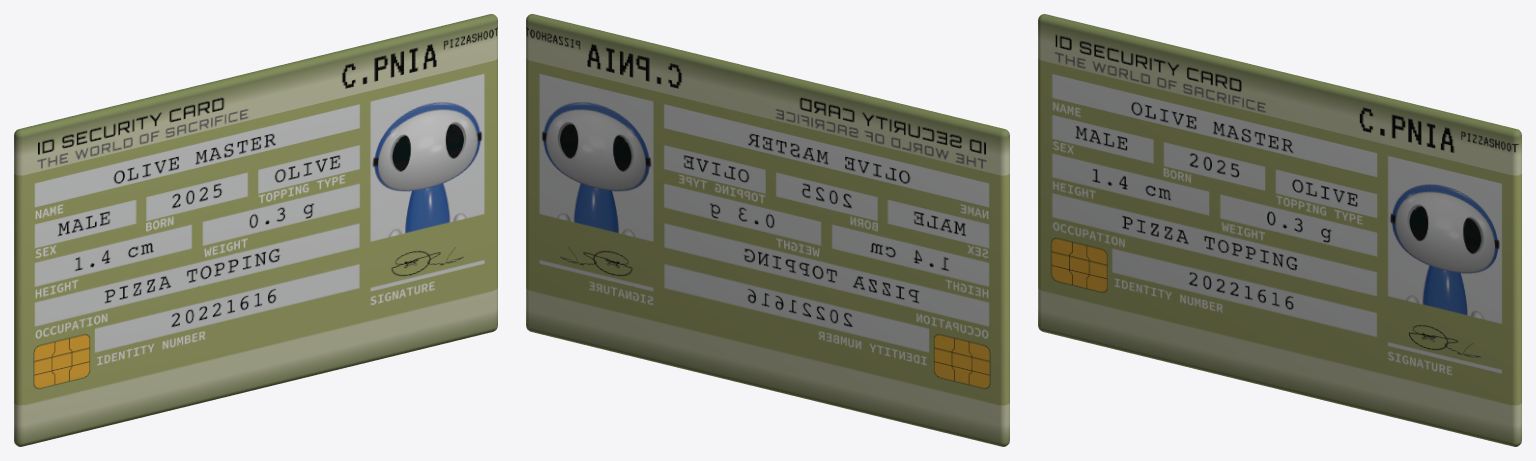
File: time.gltf
3 renders of one model, left to right at view 1: azimuth 30°, elevation 25°; view 2: azimuth 150°, elevation 25°; view 3: azimuth 330°, elevation 25°, orthographic.
Parts seen in each view (by area): view 1: Cube; view 2: Cube; view 3: Cube.
Boxes of the visible parts, bbox=[...] form: Cube: bbox=[14, 14, 497, 446]; Cube: bbox=[526, 14, 1009, 446]; Cube: bbox=[1038, 14, 1521, 446].
Size of the model in its own units: 0.086 by 0.054 by 0.00202.
1 material, 1 textured.
